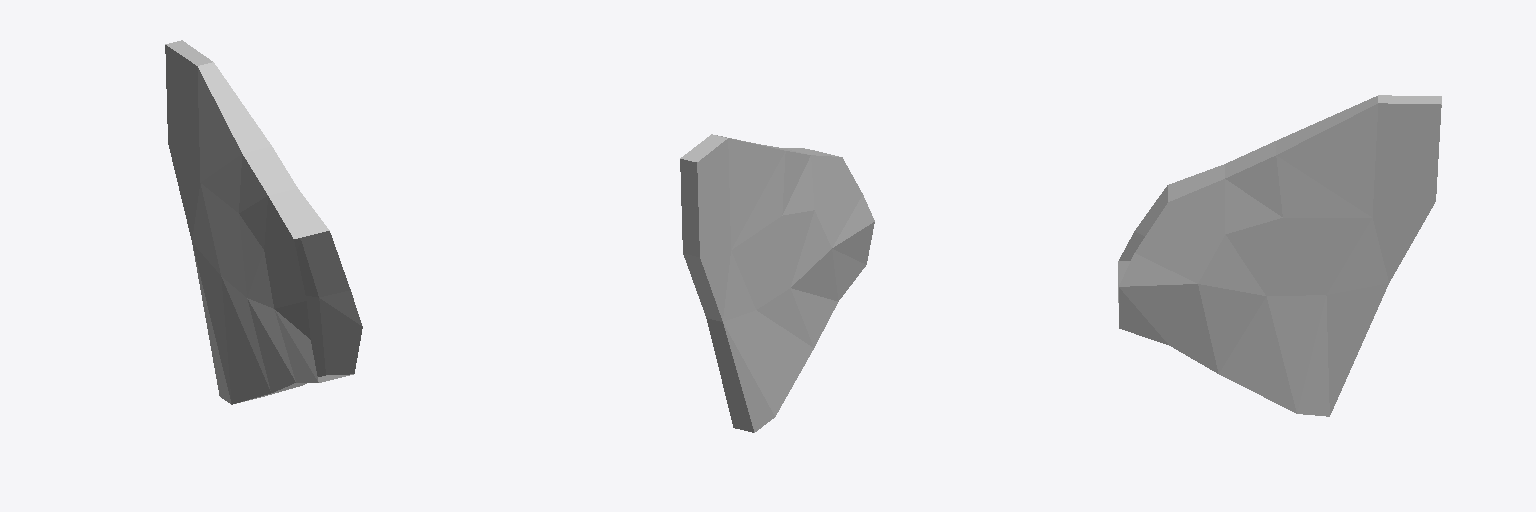
The model's file is colafish2.obj.
3 views of the same model, side by side, from view 1: azimuth 30°, elevation 25°; view 2: azimuth 150°, elevation 25°; view 3: azimuth 270°, elevation 25° (orthographic).
Visible parts, largest first — view 1: polySurface2 TropicalFish02; view 2: polySurface2 TropicalFish02; view 3: polySurface2 TropicalFish02.
Boxes of the visible parts, box(x1,y1,x2,y2) form: polySurface2 TropicalFish02: box(165, 40, 362, 404); polySurface2 TropicalFish02: box(680, 134, 874, 432); polySurface2 TropicalFish02: box(1118, 95, 1441, 416).
Bounding box in the file's own units: 0.1166 × 0.6638 × 0.6232.